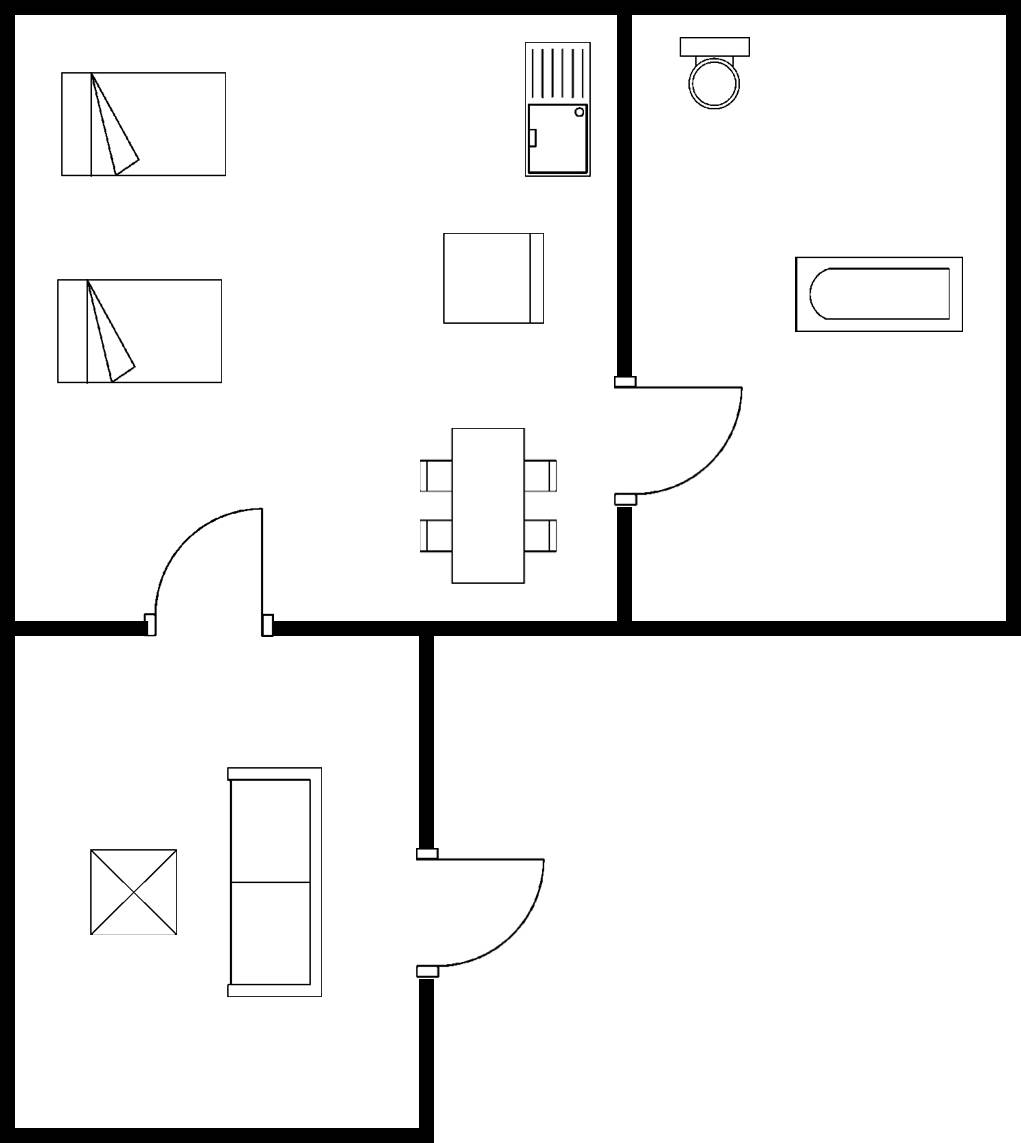bed: (49, 271, 229, 392), (56, 68, 234, 186)
coffee_table: (84, 844, 185, 946)
dining_table: (415, 418, 564, 592)
large_sink: (671, 30, 756, 117)
large_sofa: (215, 760, 336, 1008)
sink: (518, 36, 599, 185)
small_sofa: (437, 226, 553, 334)
tub: (789, 250, 974, 345)
